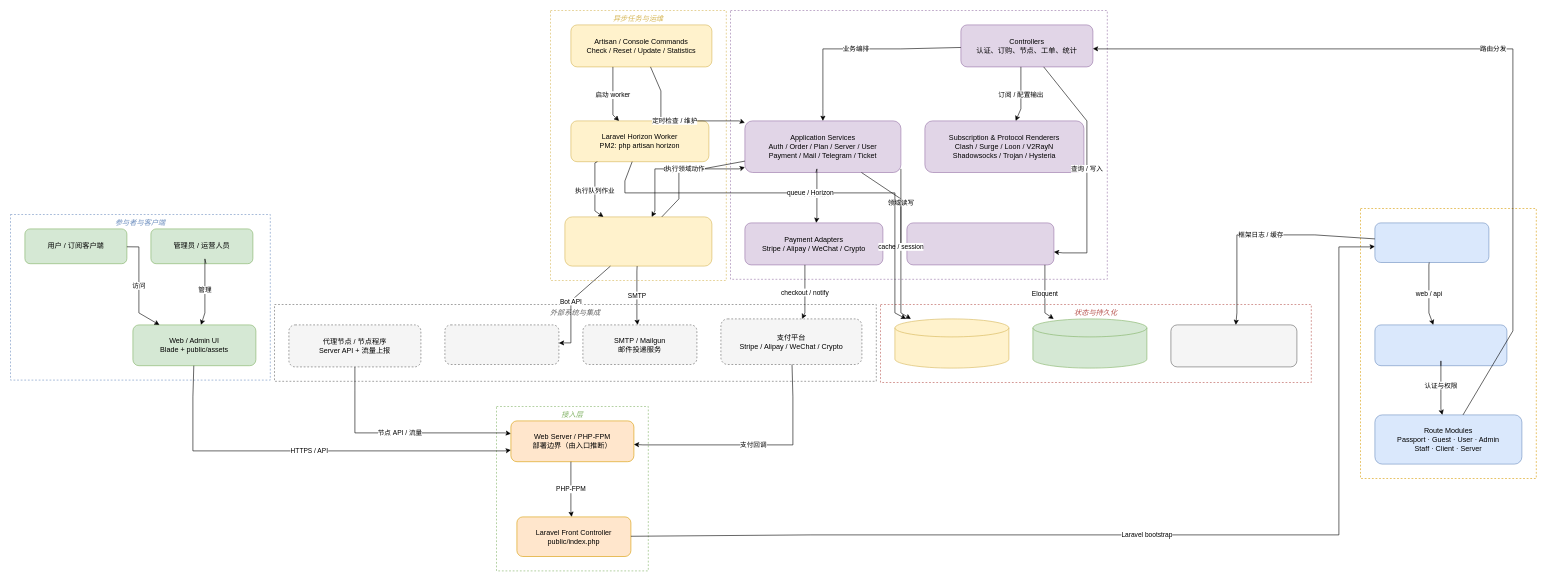
This 1547x581 diagram has some shape labels left out. Each missing label, with the box of its shape:
Eloquent Models User / Plan / Order / Server / Stat / Ticket: (906, 222, 1054, 265)
HTTP Middleware JSON / Language / Auth / Log: (1374, 324, 1507, 366)
Local Storage logs / framework cache / views: (1170, 324, 1297, 367)
MySQL install.sql / update.sql 业务主数据与统计: (1032, 318, 1147, 368)
Queue Jobs OrderHandle · TrafficFetch SendEmail · SendTelegram: (564, 216, 712, 266)
Redis Cache · Session · Queue Horizon metadata: (894, 318, 1009, 368)
RouteServiceProvider /api/v1 + web routes: (1374, 222, 1489, 262)
Telegram Bot API 通知与 Webhook: (444, 324, 559, 364)
请求与路由层: (1360, 208, 1536, 478)
领域与应用层: (730, 10, 1107, 279)
